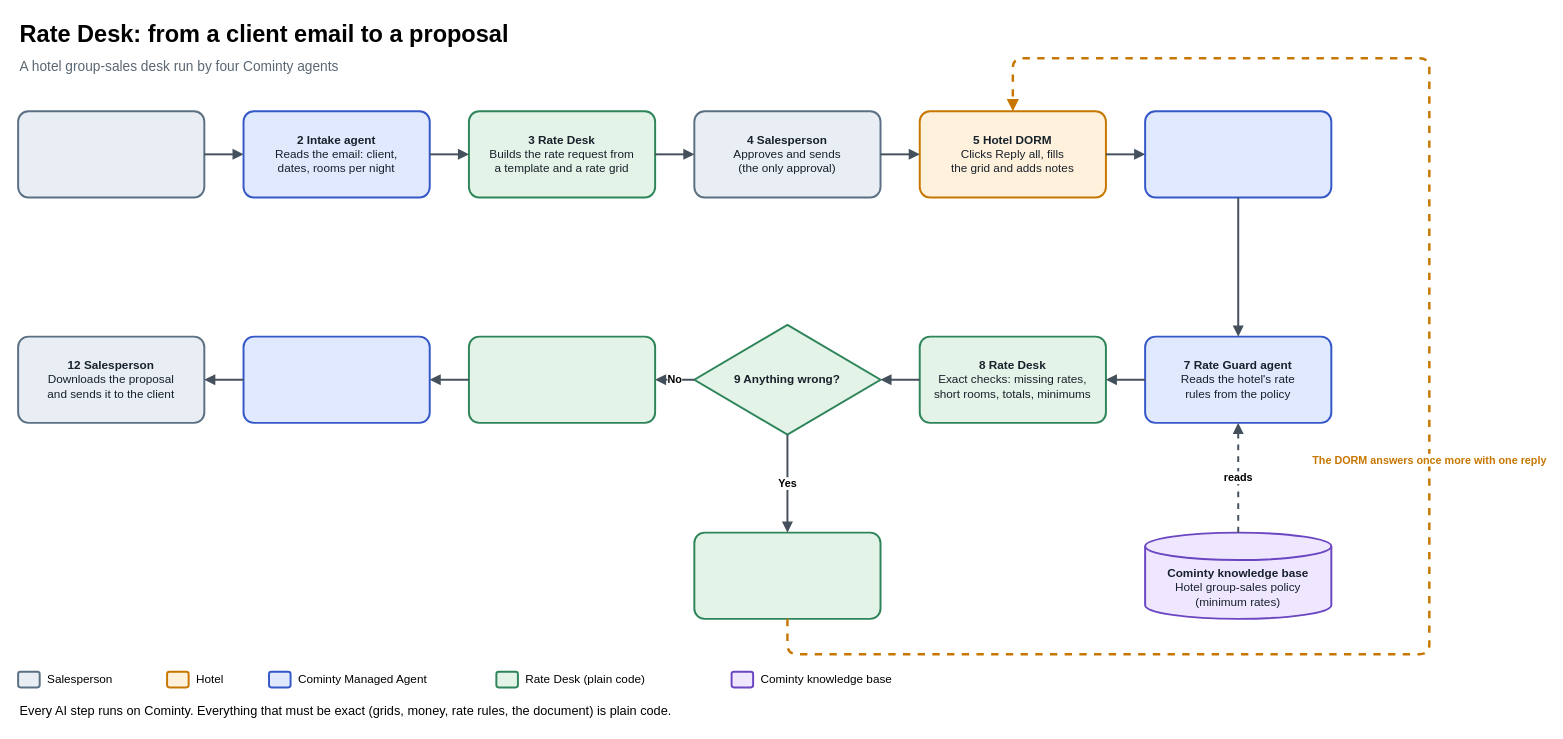
Some shapes in this 1563 by 739 pixel diagram are drawn without their labels. The centre of each missing label's shape, as x and y in pixels:
"1 Salesperson Pastes the client's email" goes at (x=111, y=154).
"10 Rate Desk Fills the proposal template and checks every number" goes at (x=561, y=379).
"11 Cover Email agent Writes the client's cover email" goes at (x=336, y=379).
"6 Rate Reader agent Reads the messy reply: rates, terms, room notes" goes at (x=1238, y=154).
"Rate Desk Sends ONE correction email, grid pre-filled, automatically" goes at (x=787, y=575).
